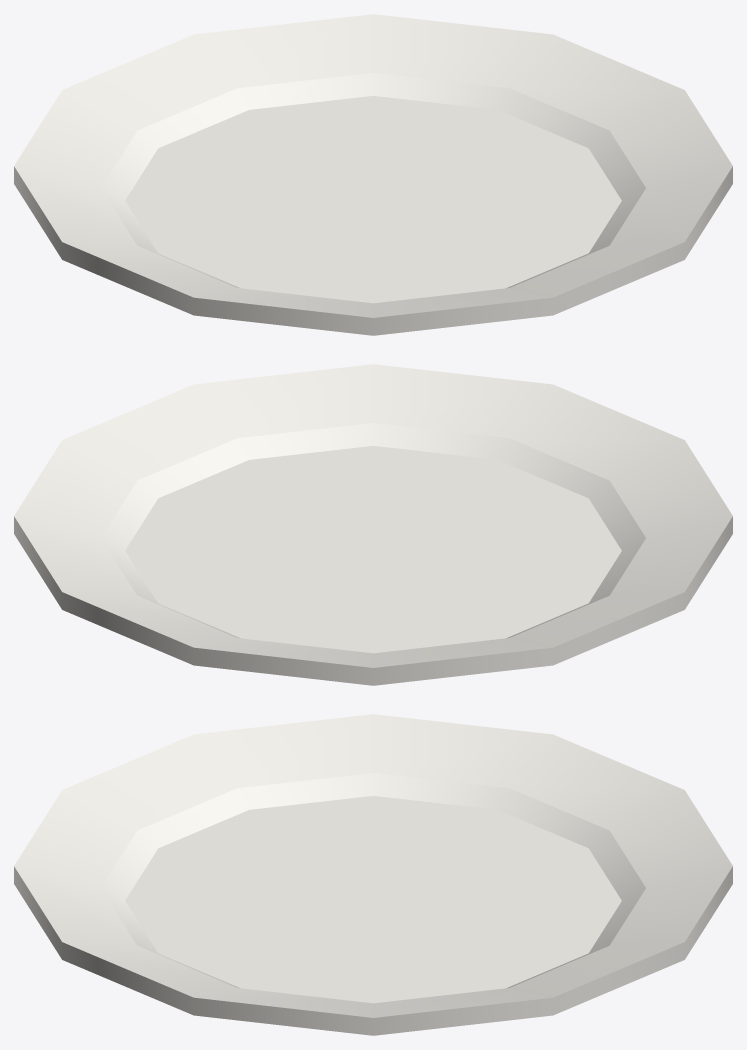
File: SM_Plate_01.fbx
3 views of the same model, one above another, from view 1: azimuth 30°, elevation 25°; view 2: azimuth 150°, elevation 25°; view 3: azimuth 270°, elevation 25° (orthographic).
Parts seen in each view (by area): view 1: SM_Plate_01; view 2: SM_Plate_01; view 3: SM_Plate_01.
Boxes of the visible parts, <box> form: SM_Plate_01: <box>14,14,732,335</box>; SM_Plate_01: <box>14,364,732,685</box>; SM_Plate_01: <box>14,714,732,1035</box>.
Bounding box in the file's own units: 28.71 × 2.4 × 28.71.
